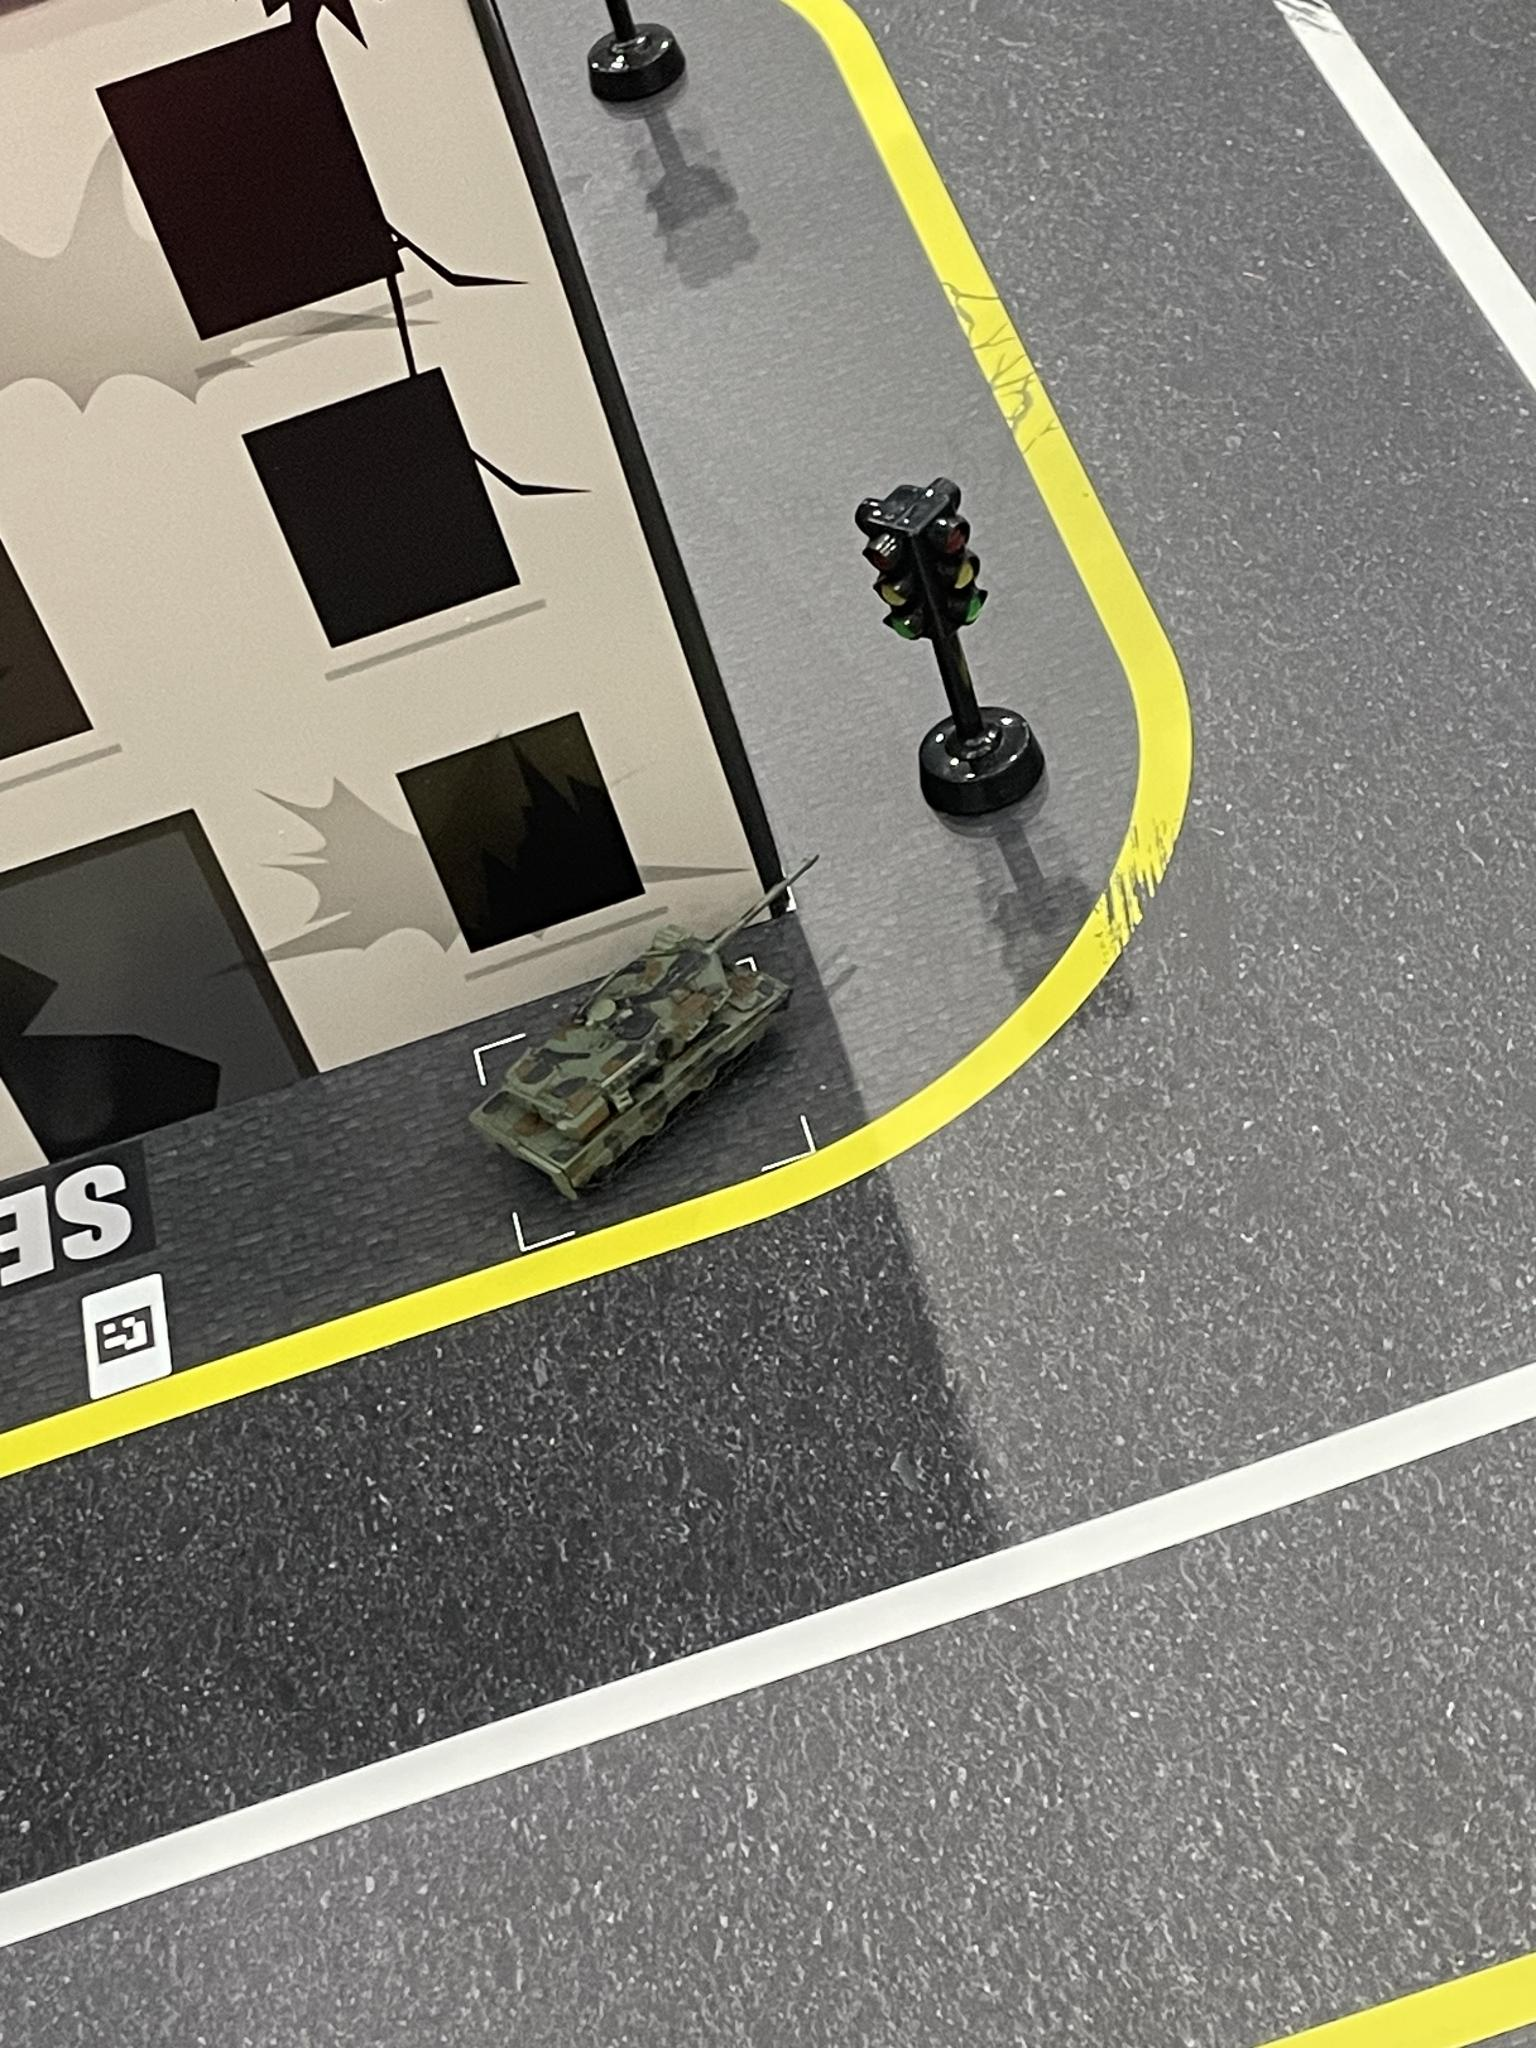Tank: (462, 863, 841, 1201)
